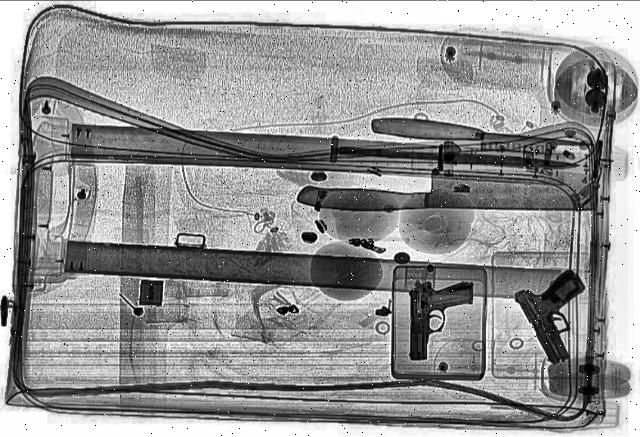Gun: (510, 267, 622, 365), (406, 277, 476, 361)
Knife: (298, 161, 602, 217), (370, 114, 596, 153), (340, 143, 582, 171)
